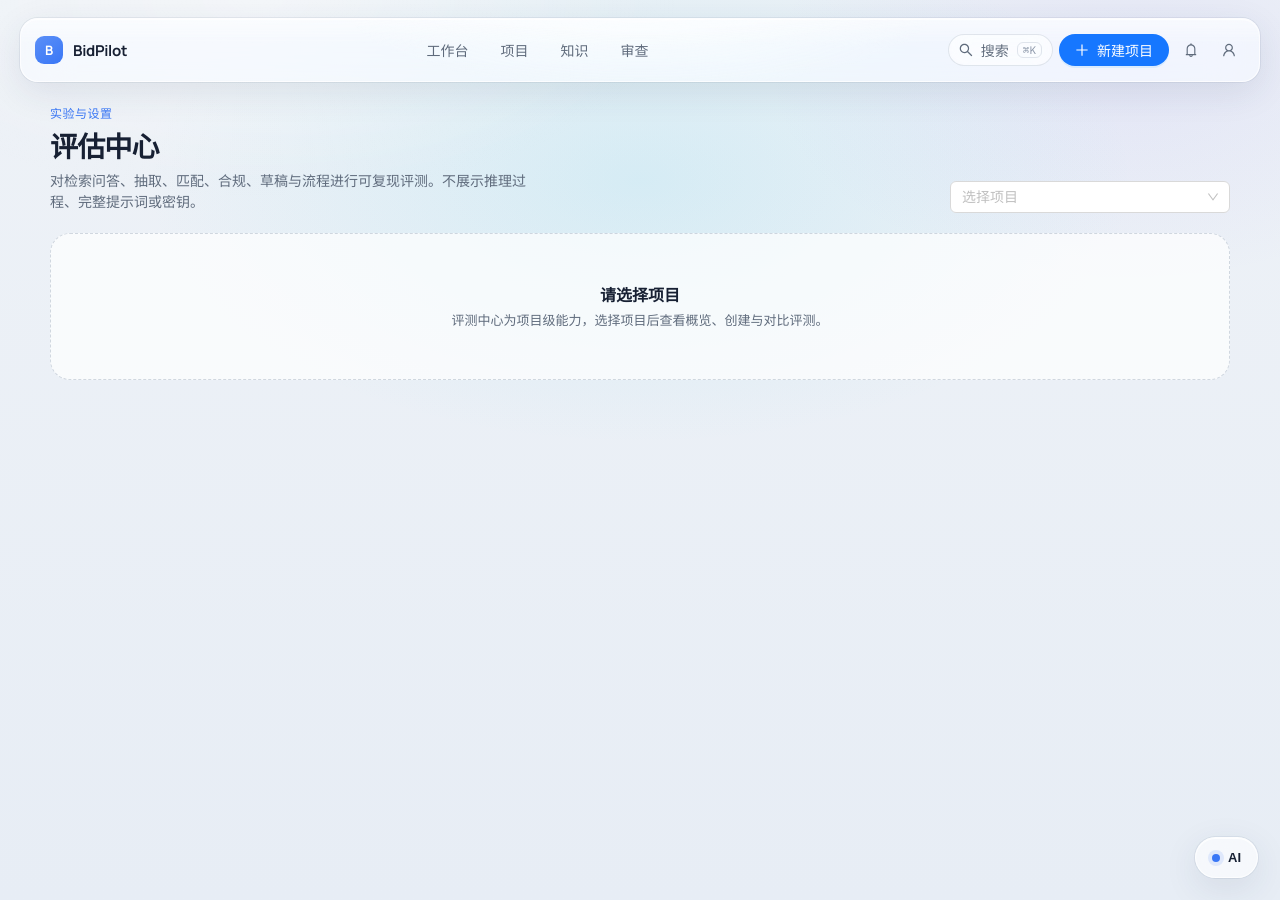
Test case: EvaluationCenterPage › 1. shows route and nav label 评估中心
The width and height of the screenshot is (1280, 900).
Expected: the element with test id "evaluation-center" is shown, [50,104,1230,380]
Click the button named "更多".
click(1229, 50)  # box [1213,34,1245,66]
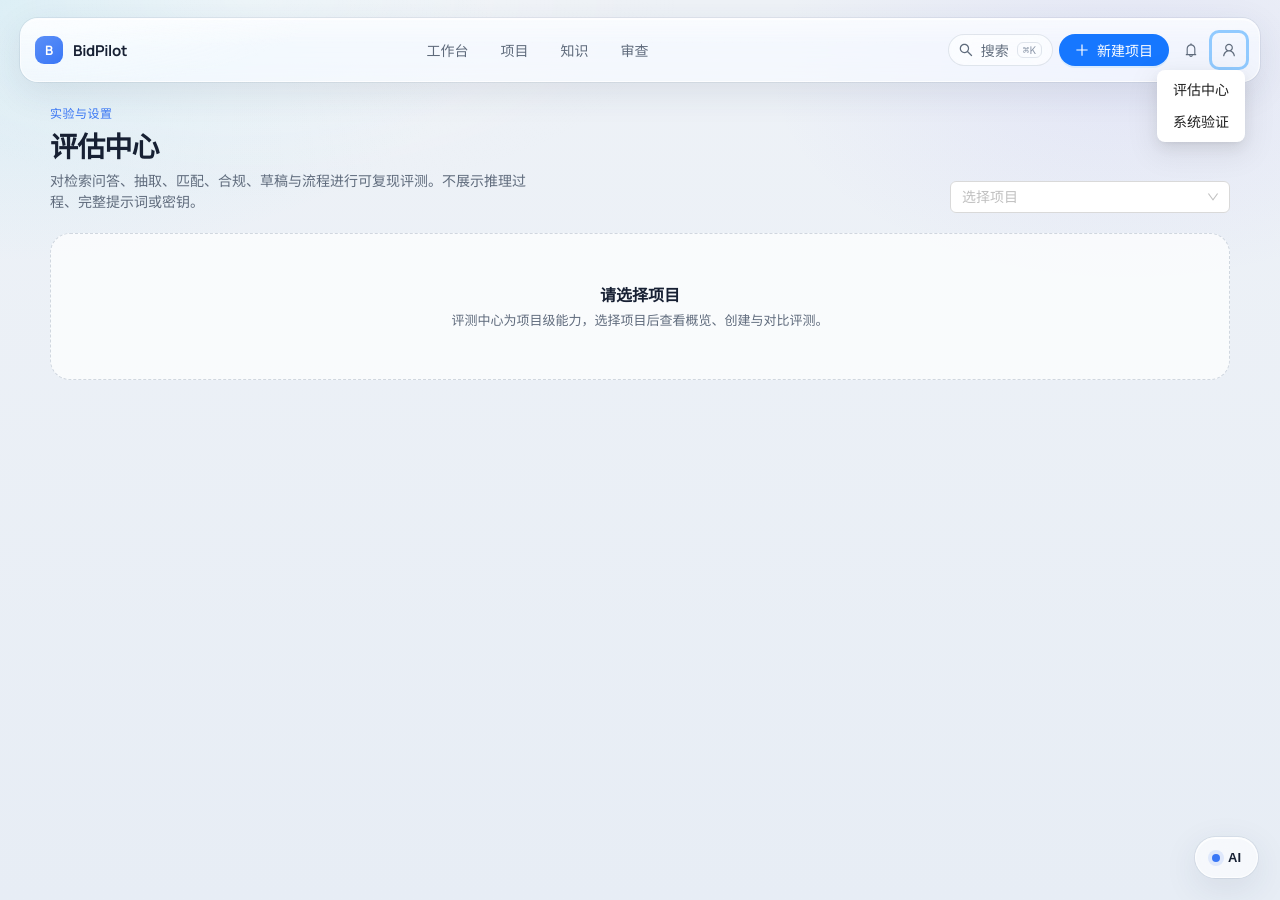
Expected: the heading "评估中心" is shown, [50,127,159,165]
Now the link "评估中心" is shown, box [1173,81,1229,98]
